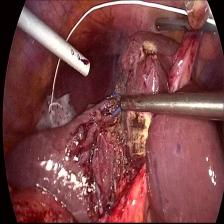Bipolar: (99, 86, 133, 120)
Grasper: (149, 16, 216, 32)
Irrigator: (61, 35, 92, 79)
Specimen Bag: (28, 92, 77, 133)
